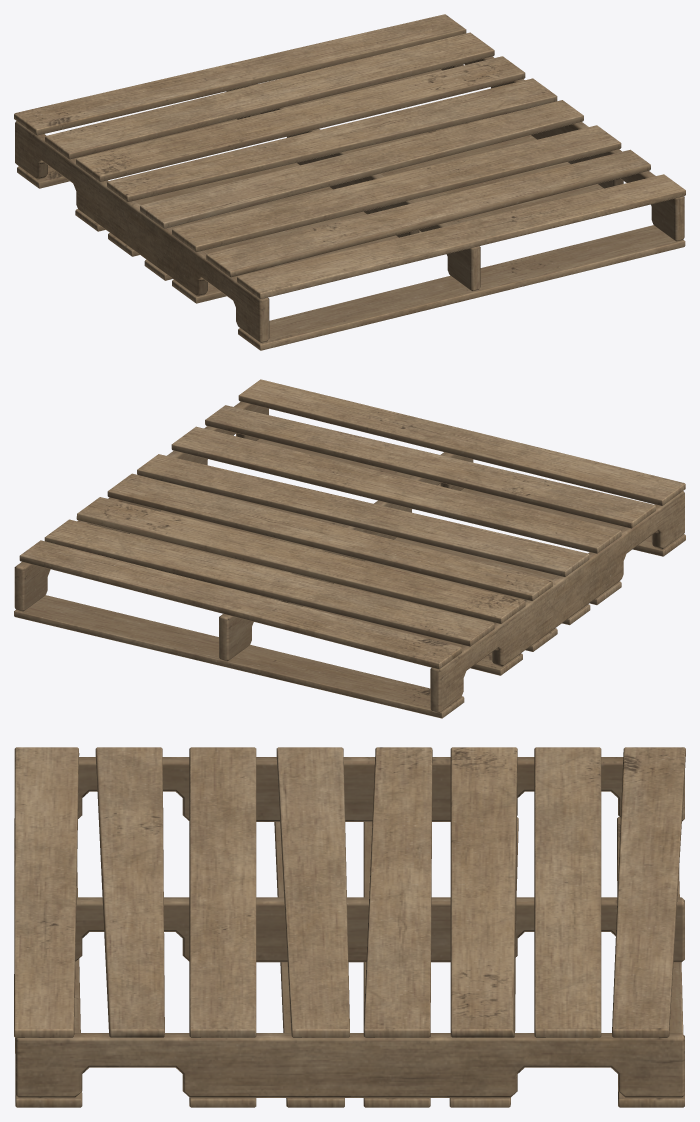
Rendered from wooden_pallet_low-poly.glb.
3 views of the same model, one above another, from view 1: azimuth 30°, elevation 25°; view 2: azimuth 150°, elevation 25°; view 3: azimuth 270°, elevation 25° (orthographic). The views are drawn at different scales.
Visible parts, largest first — view 1: pallet; view 2: pallet; view 3: pallet.
Boxes of the visible parts, left/top/right/bottom form: pallet: left=14, top=14, right=685, bottom=350; pallet: left=14, top=379, right=685, bottom=718; pallet: left=14, top=747, right=685, bottom=1107.
Size of the model in its own units: 0.8823 by 0.1147 by 0.8852.
1 material, 1 textured.
